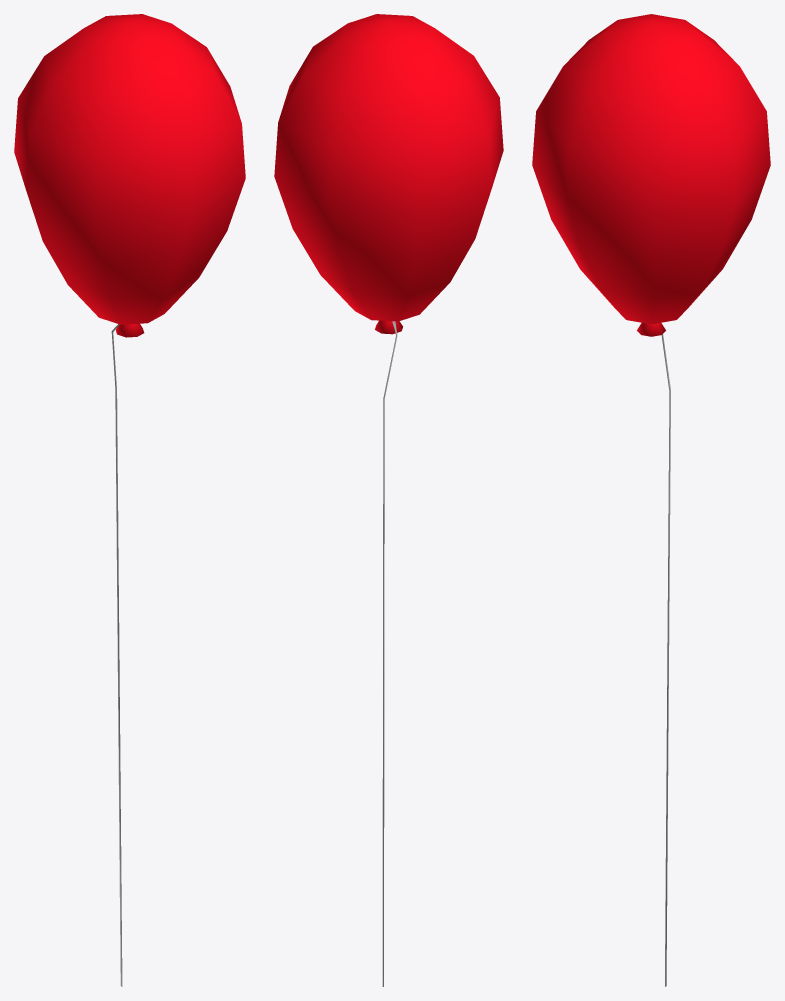
Rendered from BalloonRed.glb.
3 views of the same model, side by side, from view 1: azimuth 30°, elevation 25°; view 2: azimuth 150°, elevation 25°; view 3: azimuth 270°, elevation 25° (orthographic).
Parts seen in each view (by area): view 1: BalloonRed; view 2: BalloonRed; view 3: BalloonRed.
Boxes of the visible parts, x1=… form: BalloonRed: x1=14, y1=14, x2=245, y2=986; BalloonRed: x1=274, y1=14, x2=503, y2=986; BalloonRed: x1=532, y1=14, x2=770, y2=986.
Bounding box in the file's own units: 0.5007 × 2.23 × 0.5007.
Materials: 1 (1 with a texture image).
